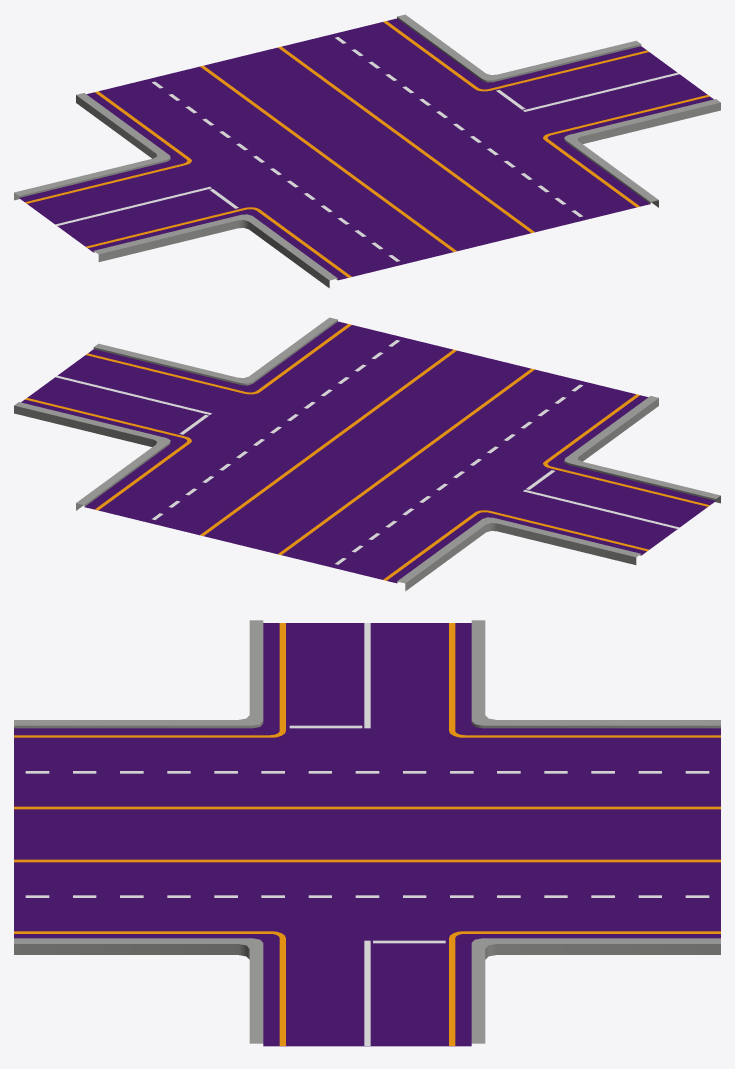
Rendered from Road_C_2L_1_5.fbx.
The picture shows the model from 3 angles, top to bottom: view 1: azimuth 30°, elevation 25°; view 2: azimuth 150°, elevation 25°; view 3: azimuth 270°, elevation 25°; orthographic projection. The views are drawn at different scales.
Visible parts, largest first — view 1: Road_C_2L_1_5; view 2: Road_C_2L_1_5; view 3: Road_C_2L_1_5.
Boxes of the visible parts, bbox=[...] form: Road_C_2L_1_5: bbox=[14, 14, 720, 288]; Road_C_2L_1_5: bbox=[14, 317, 720, 591]; Road_C_2L_1_5: bbox=[14, 620, 720, 1046].
Bounding box in the file's own units: 3400 × 41.48 × 2400.
